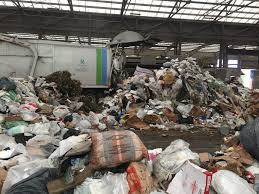garbage: (1, 88, 124, 194), (109, 142, 259, 193), (129, 68, 245, 126)
